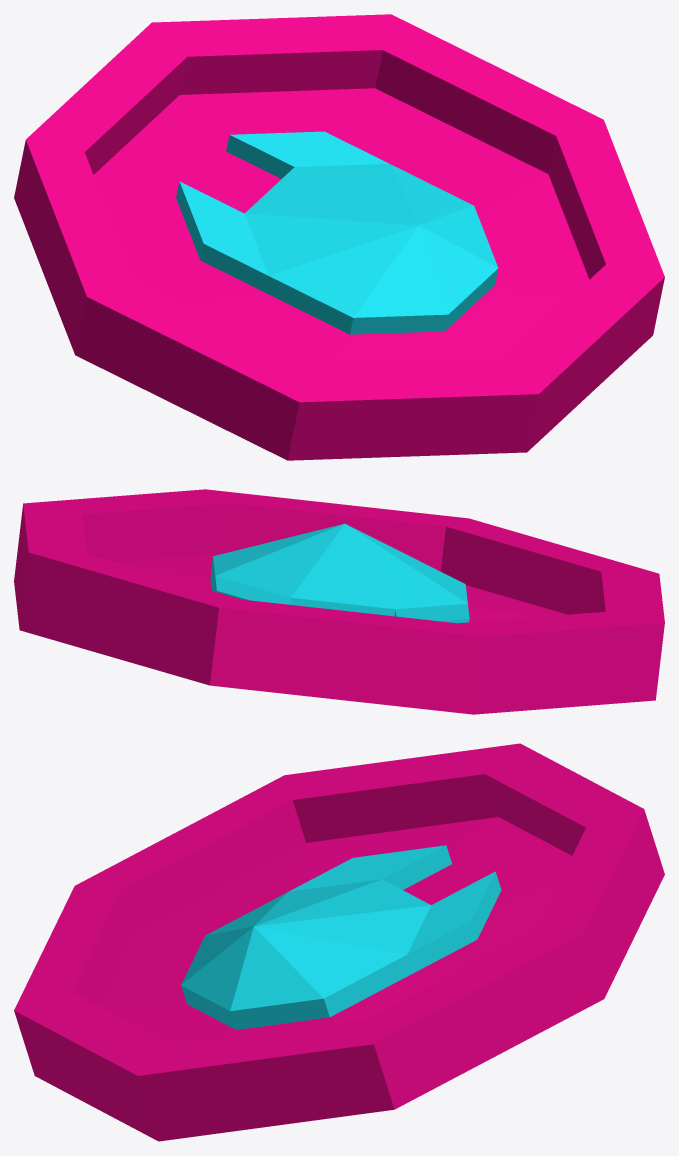
The model's file is meelk_token1.glb.
3 views of the same model, one above another, from view 1: azimuth 30°, elevation 25°; view 2: azimuth 150°, elevation 25°; view 3: azimuth 270°, elevation 25° (orthographic). The views are drawn at different scales.
Visible parts, largest first — view 1: Cylinder.011; view 2: Cylinder.011; view 3: Cylinder.011.
Part boxes in pixels (x1=…): Cylinder.011: x1=14, y1=14, x2=664, y2=460; Cylinder.011: x1=14, y1=489, x2=664, y2=714; Cylinder.011: x1=14, y1=743, x2=664, y2=1141.
Size of the model in its own units: 0.716 by 0.2768 by 0.709.
